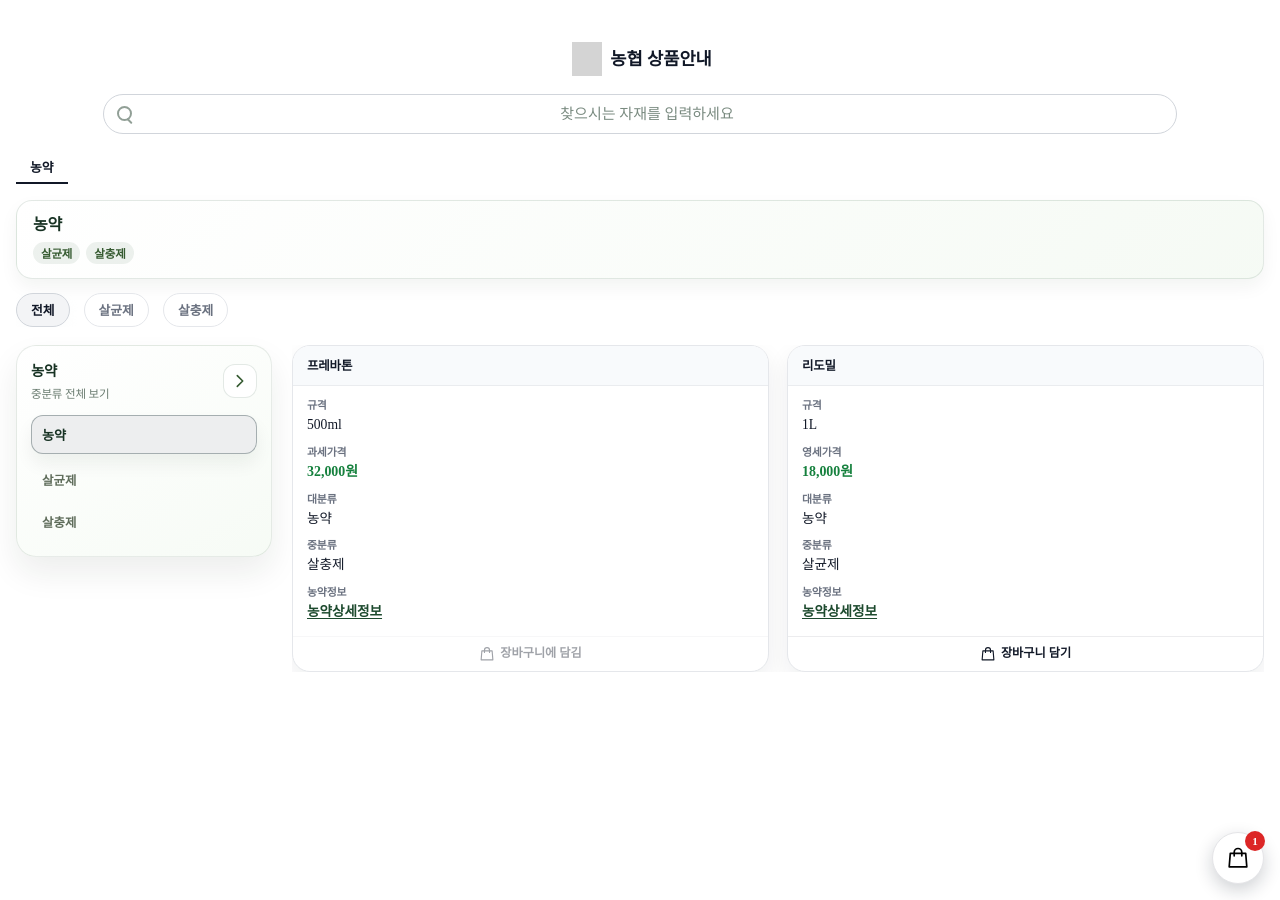
Scenario: storefront cart — 수량 › shows the quantity the ref carries
The width and height of the screenshot is (1280, 900).
What coordinates should you click on to do the following:
click the button with test id "storefront-cart-open"
I would click on:
 (1238, 858)
Its box is x1=1212 y1=832 x2=1264 y2=884.
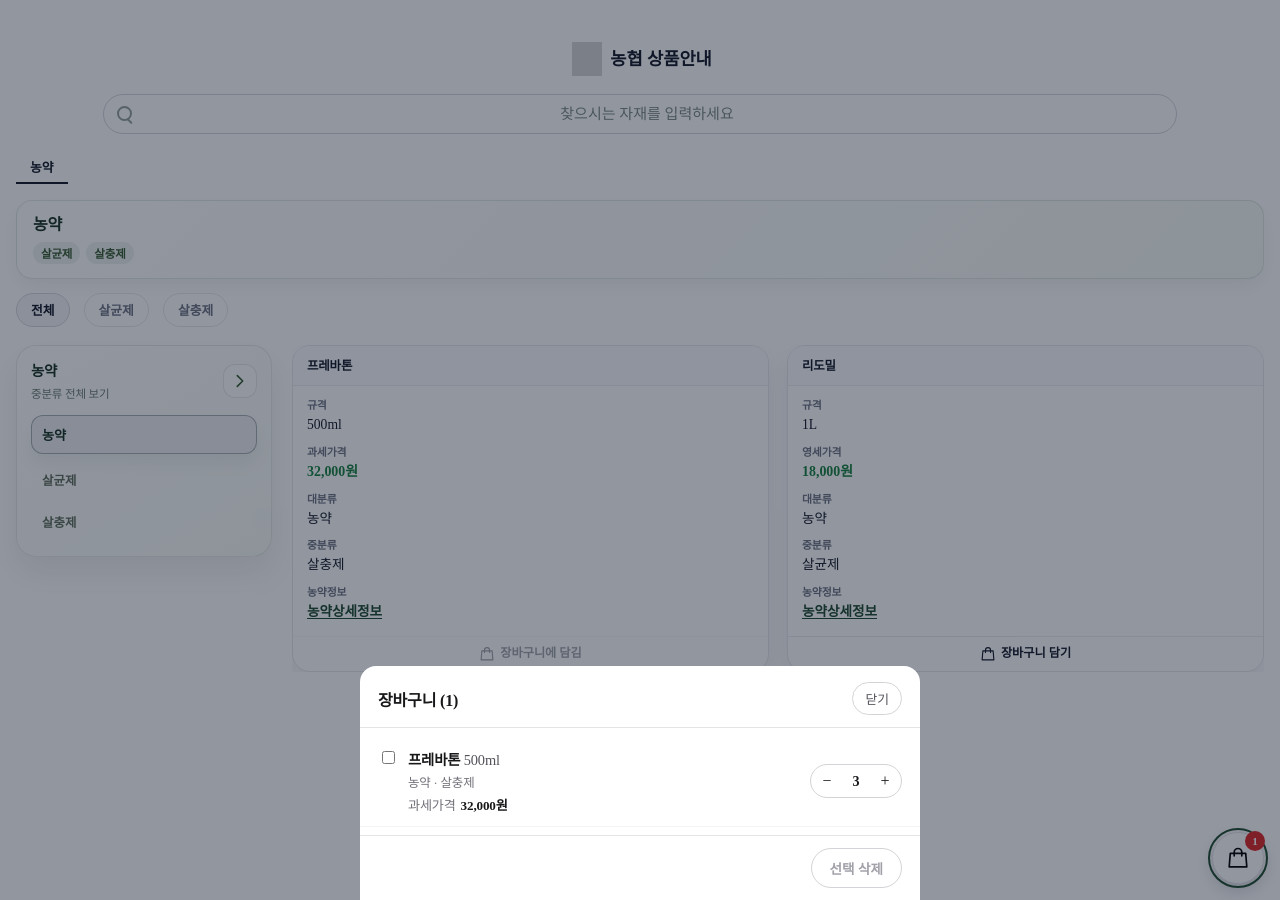
expect the text with test id "storefront-cart-quantity-value" reads "3": met, box x1=852 y1=772 x2=859 y2=788
